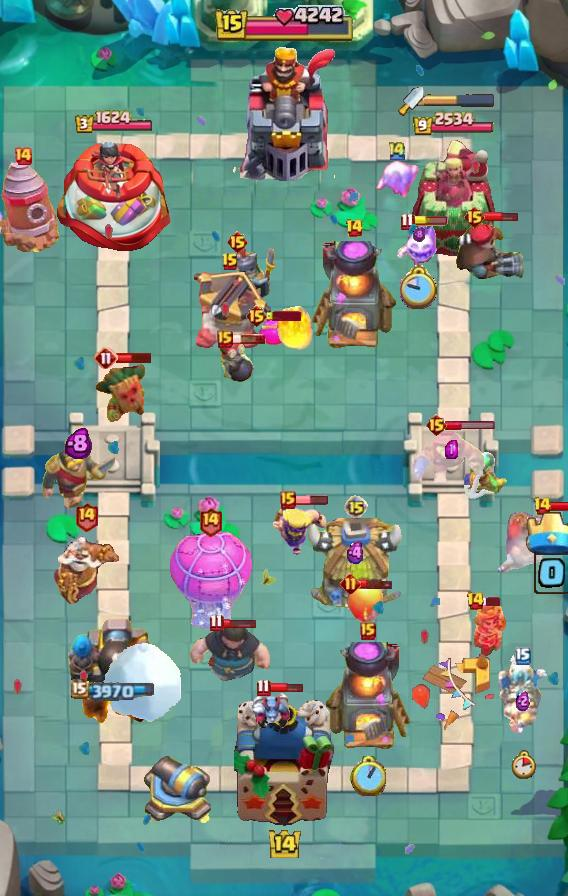arrows: (272, 504, 328, 557)
bar: (409, 138, 497, 256)
bomber-evolution: (469, 605, 507, 657)
cannon-cart: (166, 525, 254, 633)
clock: (213, 5, 355, 45)
electro-spirit: (65, 427, 91, 459), (345, 541, 367, 565), (516, 689, 530, 711), (446, 441, 459, 459), (413, 227, 425, 242)
elixir: (401, 265, 440, 309), (350, 756, 386, 796), (511, 750, 536, 779)
elixir-collector: (50, 536, 122, 612)
elixir-golem-big: (496, 502, 568, 576)
emote: (445, 420, 496, 431), (115, 352, 152, 365), (230, 333, 266, 345), (293, 494, 329, 506), (358, 578, 394, 590), (268, 682, 304, 694), (485, 211, 520, 223), (222, 617, 257, 629), (412, 216, 448, 226), (265, 311, 301, 321), (482, 596, 502, 608), (550, 500, 568, 512)
fireball: (412, 429, 490, 503)
firecracker: (41, 447, 115, 509)
giant-snowball: (460, 451, 510, 495)
goblin-barrel: (94, 360, 150, 424)
hog: (346, 580, 386, 624)
hunter: (310, 241, 398, 351), (324, 642, 412, 752)
ice-golem: (217, 336, 257, 384)
king-tower: (230, 45, 338, 181), (234, 700, 334, 826)
king-tower-bar: (424, 93, 496, 107)
lava-pup: (189, 272, 271, 352)
magic-archer: (0, 159, 60, 253)
miner: (258, 315, 290, 345)
mini-pekka: (495, 655, 551, 739)
mirror: (395, 220, 443, 268), (372, 159, 422, 197)
phoenix-small: (453, 222, 527, 284)
prince: (305, 518, 407, 614)
princess: (232, 243, 278, 305)
queen-tower: (51, 137, 177, 255)
royal-delivery: (252, 691, 298, 731)
royal-hog: (187, 620, 273, 694)
royal-recruit: (142, 745, 214, 829)
selected: (413, 111, 496, 137), (74, 110, 154, 135), (71, 679, 157, 701)
text: (73, 501, 98, 532), (197, 506, 222, 537), (94, 346, 118, 370), (344, 495, 368, 519), (462, 205, 485, 229), (226, 230, 249, 254), (244, 304, 267, 328), (425, 413, 448, 437), (339, 574, 360, 595), (387, 140, 407, 161), (13, 146, 33, 166), (344, 218, 363, 238), (532, 496, 551, 516), (466, 591, 485, 611), (221, 252, 239, 272), (217, 330, 233, 348), (280, 491, 296, 509), (360, 622, 376, 640), (515, 647, 531, 665), (209, 612, 224, 631), (257, 679, 272, 697), (401, 213, 415, 231)
tower-bar: (67, 611, 161, 731)
valkyrie: (271, 294, 317, 352)
wall-breaker: (101, 641, 183, 723)
